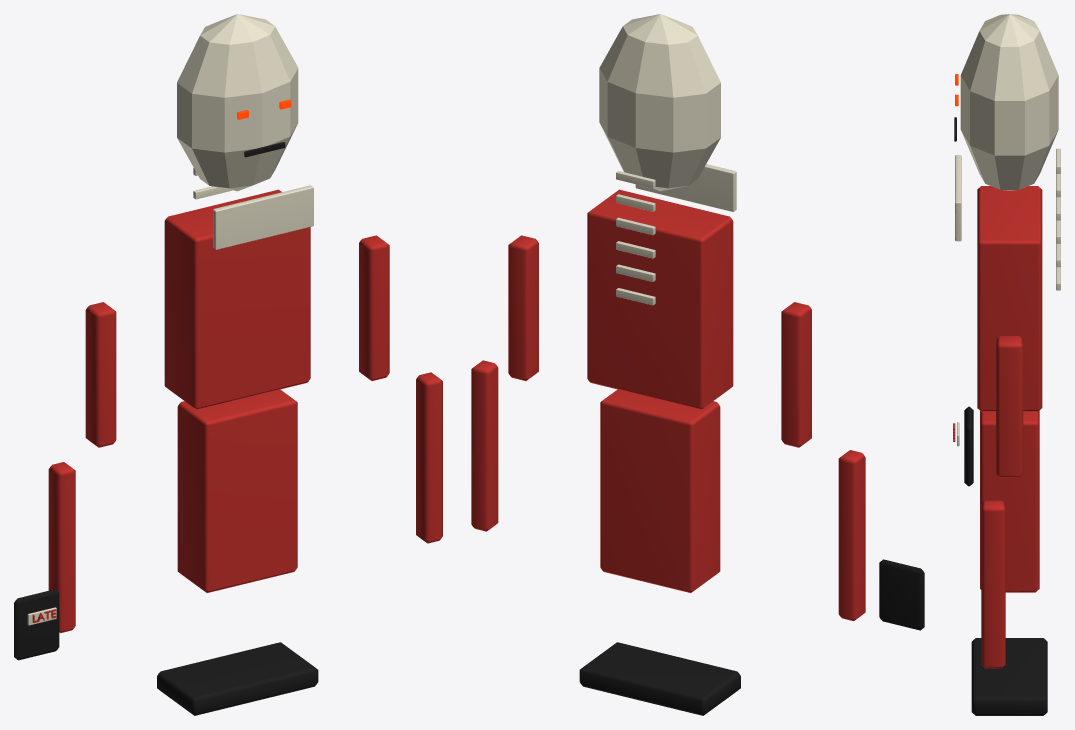
Rendered from ASV2_Monster_Homework_Debt_Collector.fbx.
3 renders of one model, left to right at view 1: azimuth 30°, elevation 25°; view 2: azimuth 150°, elevation 25°; view 3: azimuth 270°, elevation 25°, orthographic.
Visible parts, largest first — view 1: collector_upper_coat, collector_lower_coat, collector_receipt_head, collector_long_feet, collector_right_lower_arm, collector_left_upper_arm, collector_right_upper_arm, collector_paper_collar, collector_left_lower_arm, collector_ledger; view 2: collector_upper_coat, collector_lower_coat, collector_receipt_head, collector_long_feet, collector_right_lower_arm, collector_left_lower_arm, collector_right_upper_arm, collector_left_upper_arm, collector_ledger, collector_paper_collar; view 3: collector_receipt_head, collector_upper_coat, collector_lower_coat, collector_long_feet, collector_right_lower_arm, collector_right_upper_arm, collector_ledger, collector_paper_collar.
Boxes of the visible parts, left/top/right/bottom form: collector_upper_coat: left=164, top=189, right=310, bottom=409; collector_lower_coat: left=177, top=389, right=297, bottom=592; collector_receipt_head: left=177, top=14, right=298, bottom=191; collector_long_feet: left=157, top=642, right=318, bottom=715; collector_right_lower_arm: left=416, top=372, right=442, bottom=543; collector_left_upper_arm: left=85, top=302, right=116, bottom=447; collector_right_upper_arm: left=359, top=235, right=389, bottom=380; collector_paper_collar: left=213, top=185, right=313, bottom=249; collector_left_lower_arm: left=48, top=462, right=75, bottom=632; collector_ledger: left=14, top=589, right=59, bottom=660; collector_upper_coat: left=587, top=189, right=733, bottom=409; collector_lower_coat: left=600, top=389, right=720, bottom=592; collector_receipt_head: left=599, top=14, right=720, bottom=191; collector_long_feet: left=579, top=642, right=740, bottom=715; collector_right_lower_arm: left=471, top=360, right=498, bottom=531; collector_left_lower_arm: left=838, top=450, right=865, bottom=621; collector_right_upper_arm: left=508, top=235, right=538, bottom=380; collector_left_upper_arm: left=781, top=302, right=811, bottom=447; collector_ledger: left=879, top=559, right=924, bottom=630; collector_paper_collar: left=635, top=164, right=736, bottom=211; collector_receipt_head: left=960, top=14, right=1058, bottom=190; collector_upper_coat: left=977, top=186, right=1042, bottom=411; collector_lower_coat: left=980, top=410, right=1039, bottom=592; collector_long_feet: left=971, top=638, right=1047, bottom=715; collector_right_lower_arm: left=981, top=500, right=1005, bottom=668; collector_right_upper_arm: left=996, top=336, right=1023, bottom=477; collector_ledger: left=964, top=406, right=973, bottom=486; collector_paper_collar: left=955, top=155, right=961, bottom=241.
Bounding box in the file's own units: 185 × 274 × 39.8.
